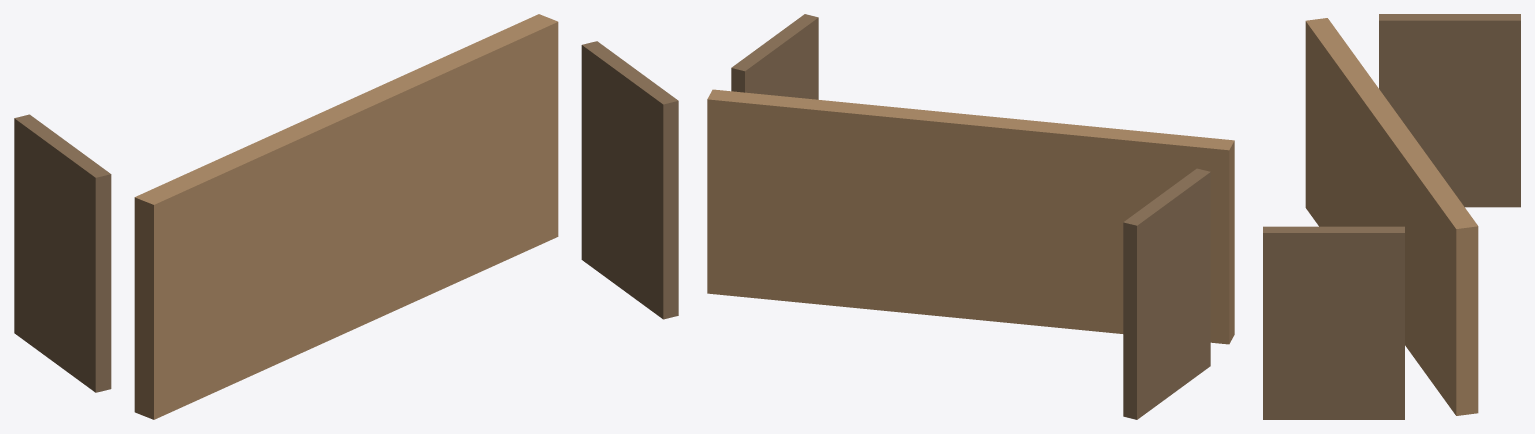
The model's file is mod_ramp_wood.glb.
The picture shows the model from 3 angles, left to right: view 1: azimuth 30°, elevation 25°; view 2: azimuth 150°, elevation 25°; view 3: azimuth 270°, elevation 25°; orthographic projection. The views are drawn at different scales.
Visible parts, largest first — view 1: ramp, rail_l, rail_r; view 2: ramp, rail_l, rail_r; view 3: ramp, rail_r, rail_l.
Boxes of the visible parts, bbox=[...] form: ramp: bbox=[134, 14, 558, 419]; rail_l: bbox=[14, 114, 111, 392]; rail_r: bbox=[581, 41, 678, 319]; ramp: bbox=[707, 89, 1234, 344]; rail_l: bbox=[1123, 168, 1210, 419]; rail_r: bbox=[731, 14, 818, 99]; ramp: bbox=[1305, 18, 1478, 415]; rail_r: bbox=[1263, 226, 1404, 419]; rail_l: bbox=[1379, 14, 1520, 207].
Size of the model in its own units: 4.02 by 1.6 by 2.
